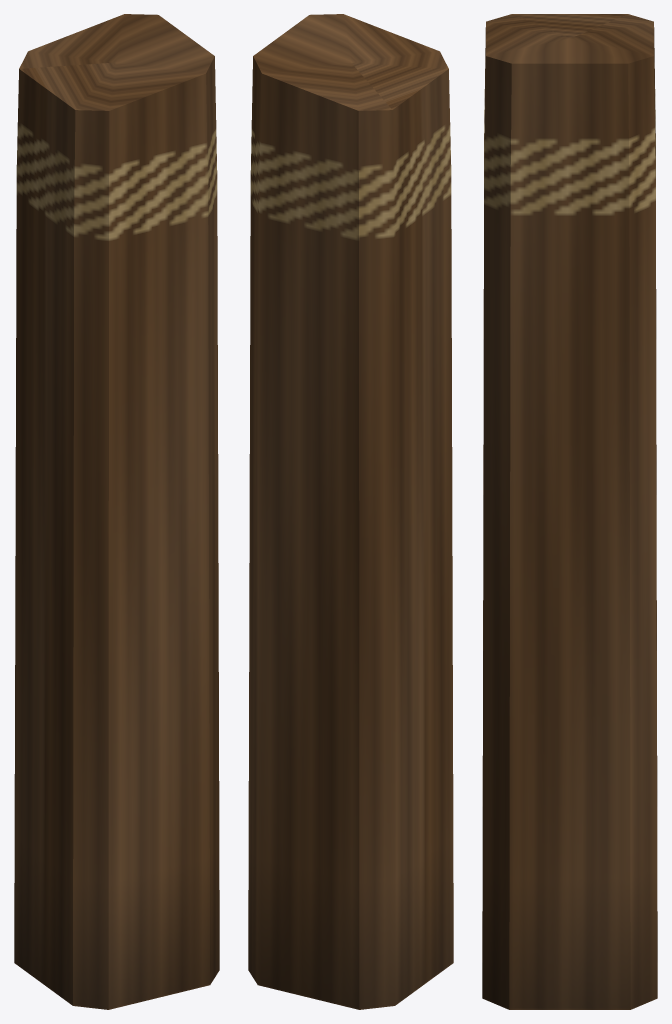
Rendered from TitleStake.obj.
The picture shows the model from 3 angles, left to right: view 1: azimuth 30°, elevation 25°; view 2: azimuth 150°, elevation 25°; view 3: azimuth 270°, elevation 25°; orthographic projection. The views are drawn at different scales.
Visible parts, largest first — view 1: TitleStake; view 2: TitleStake; view 3: TitleStake.
Part boxes in pixels (x1,y1,x2,y2): TitleStake: (14,14,219,1009); TitleStake: (248,14,453,1009); TitleStake: (482,14,657,1009).
Bounding box in the file's own units: 0.26 × 1.55 × 0.26.
1 material, 1 textured.
